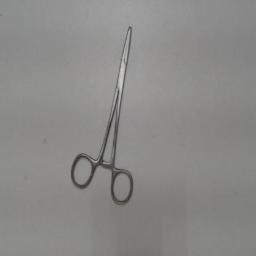Mayo Needle Holder: (67, 18, 137, 210)
